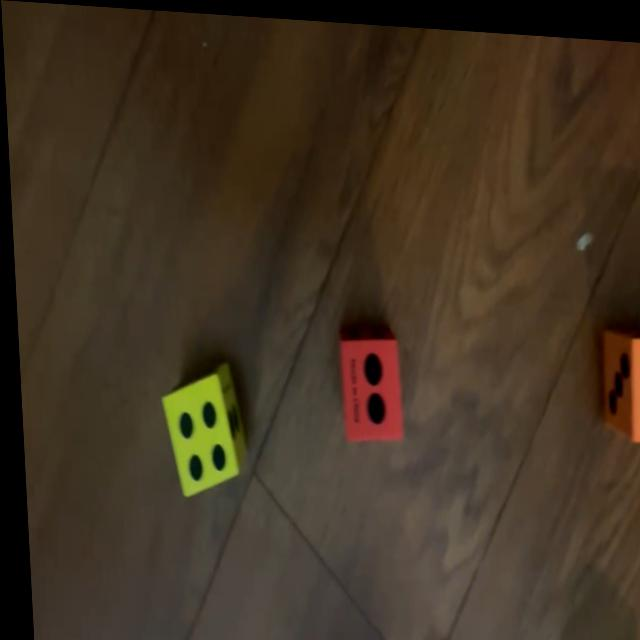cube: (334, 330, 398, 439)
